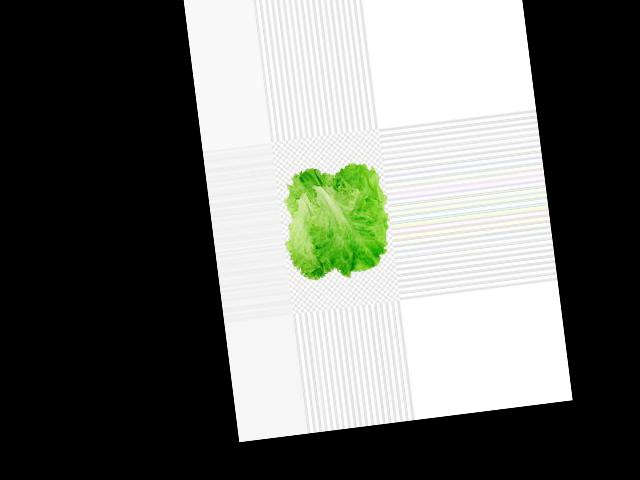lettuce: (290, 164, 391, 284)
